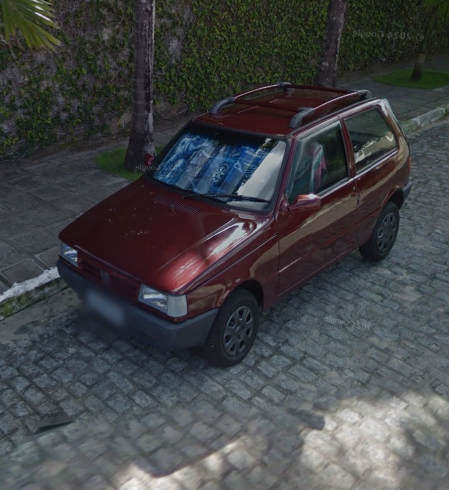car: (56, 78, 412, 369)
